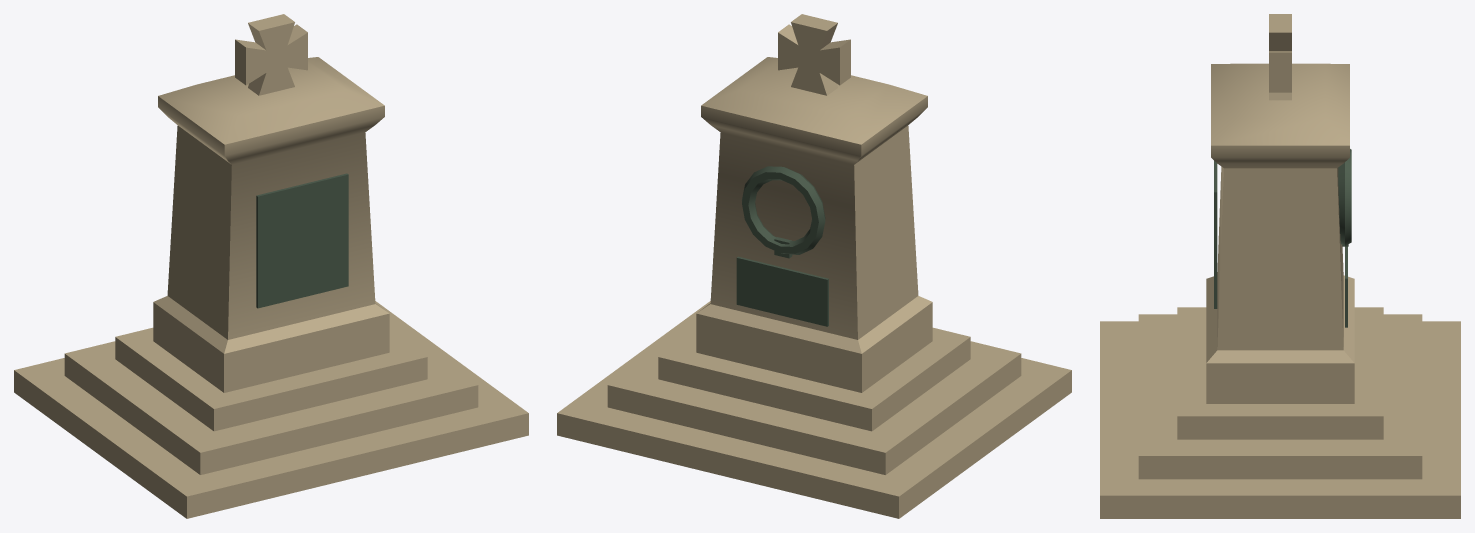
The model's file is mon_war.glb.
3 views of the same model, side by side, from view 1: azimuth 30°, elevation 25°; view 2: azimuth 150°, elevation 25°; view 3: azimuth 270°, elevation 25° (orthographic). The views are drawn at different scales.
Parts seen in each view (by area): view 1: mon_war; view 2: mon_war; view 3: mon_war.
Boxes of the visible parts, bbox=[...] form: mon_war: bbox=[14, 14, 528, 518]; mon_war: bbox=[557, 14, 1071, 518]; mon_war: bbox=[1100, 14, 1460, 518].
Size of the model in its own units: 3.2 by 3.5 by 2.8.
